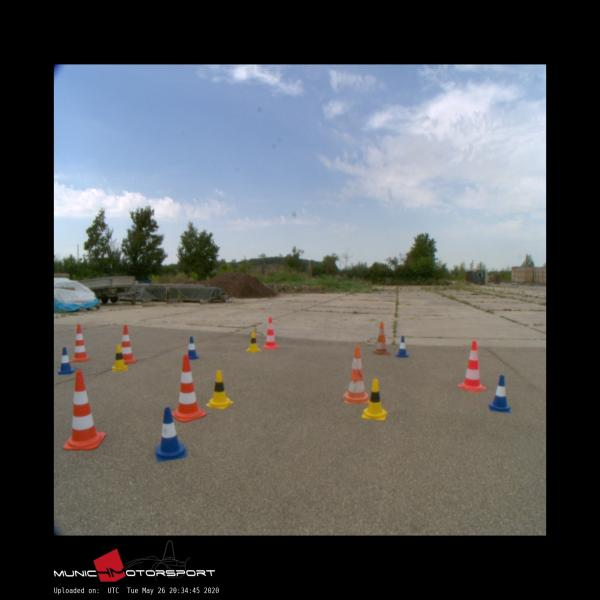blue_cone: (156, 407, 186, 459), (488, 375, 510, 412), (57, 348, 74, 374), (186, 337, 198, 358), (396, 336, 408, 356)
large_orange_cone: (63, 371, 105, 449), (172, 354, 206, 421), (343, 347, 370, 403), (457, 341, 486, 390), (71, 324, 89, 361), (120, 324, 136, 363), (262, 316, 278, 348), (374, 322, 388, 354)
yellow_cone: (205, 370, 233, 408), (362, 379, 386, 420), (111, 345, 127, 371), (246, 332, 260, 351)
